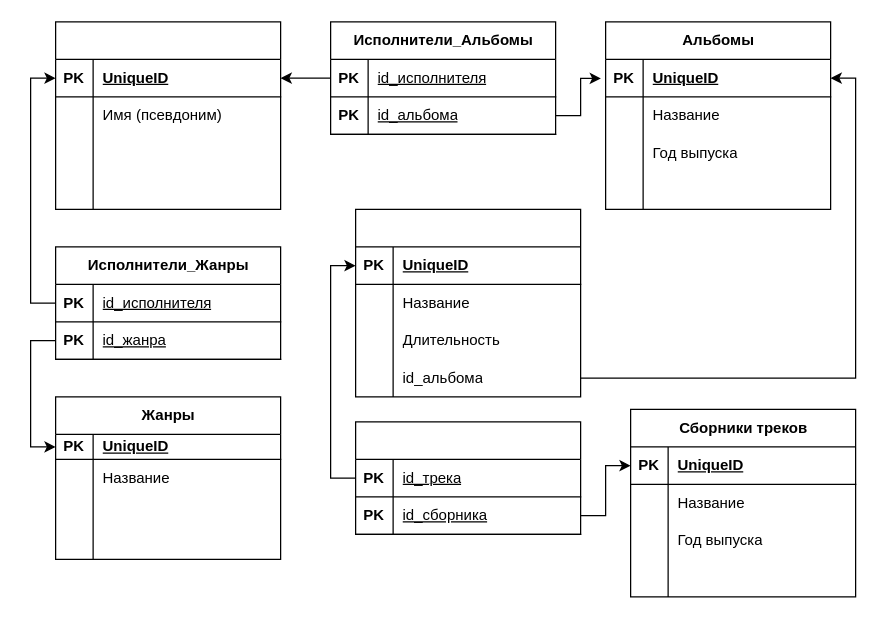
Some shapes in this 888 by 619 pixel diagram are drawn without their labels. Here are the shapes that lost their labels. From the top down, the box of each, then its label:
(54, 21, 281, 209): Исполнители
(354, 208, 581, 397): Треки
(354, 421, 581, 534): Треки_Сборники
